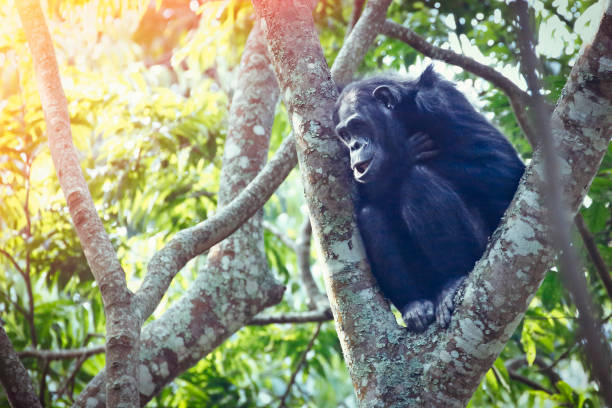chimpanzee: (324, 76, 411, 189)
